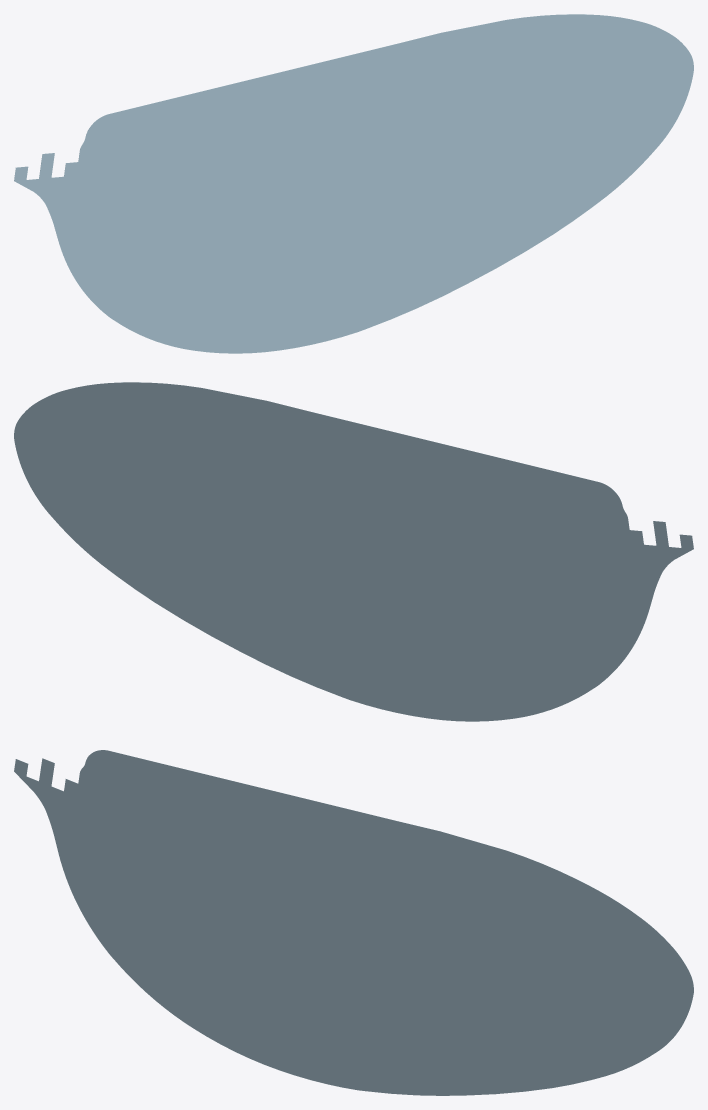
Rendered from wing_membrane.obj.
3 views of the same model, one above another, from view 1: azimuth 30°, elevation 25°; view 2: azimuth 150°, elevation 25°; view 3: azimuth 330°, elevation 25° (orthographic).
Parts seen in each view (by area): view 1: mesh126; view 2: mesh127; view 3: mesh126.
Boxes of the visible parts, left/top/right/bottom form: mesh126: left=14, top=14, right=693, bottom=353; mesh127: left=14, top=382, right=693, bottom=721; mesh126: left=14, top=750, right=693, bottom=1095.
Size of the model in its own units: 0.0135 by 0.00531 by 1.5e-06.
